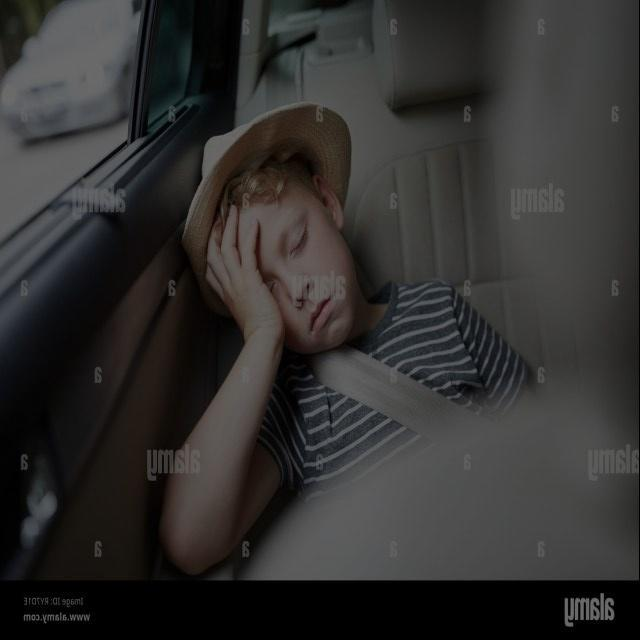sleepy: (262, 213, 345, 341)
